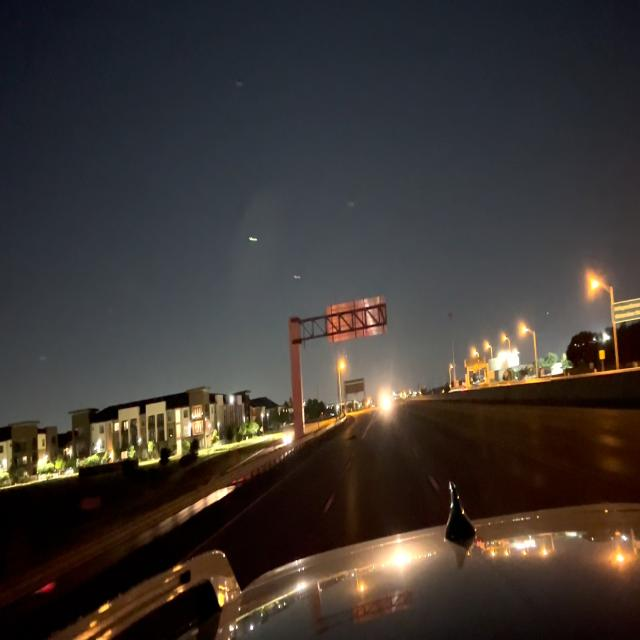back-of-sign: (327, 294, 386, 349)
